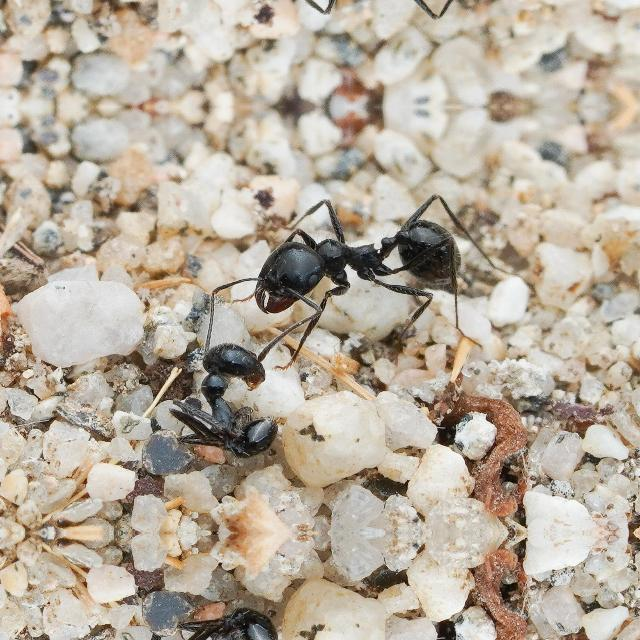Messor: (245, 186, 471, 350), (186, 306, 278, 450)
